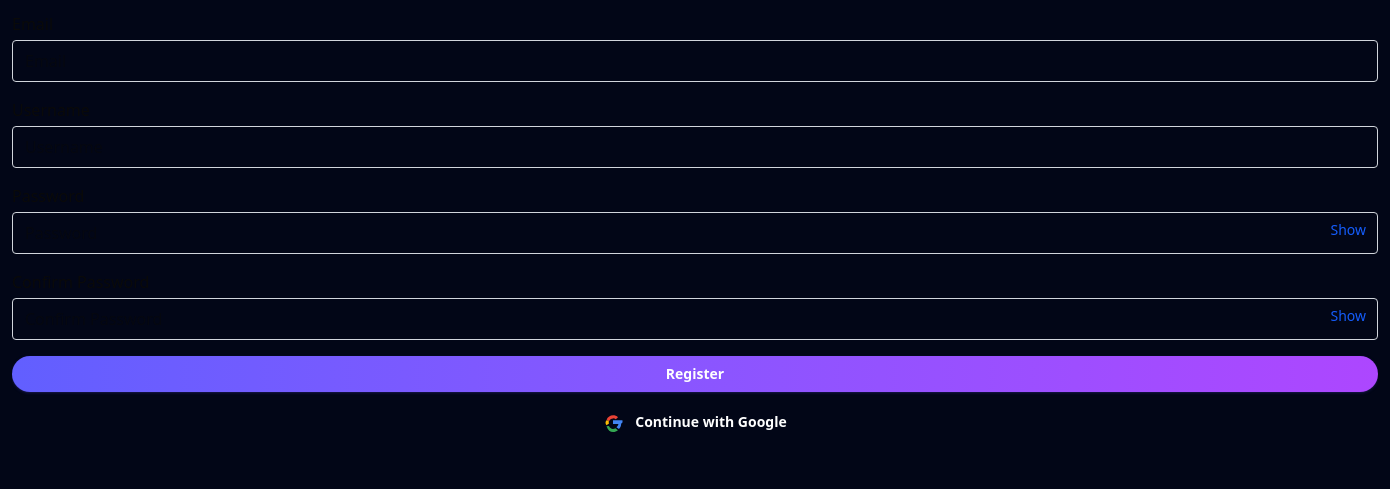
AuthForm › shows error if fields are missing on register
Click the button "Register".
click(695, 374)  # box [12,356,1378,392]
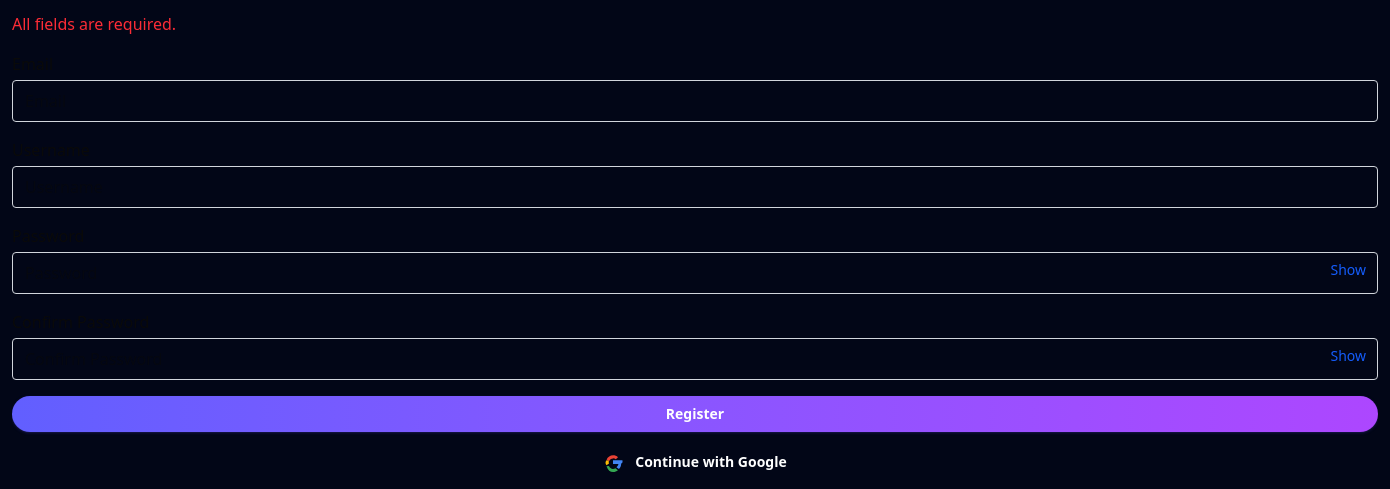
Expected: the text "All fields are required." is shown, [12,13,176,35]
